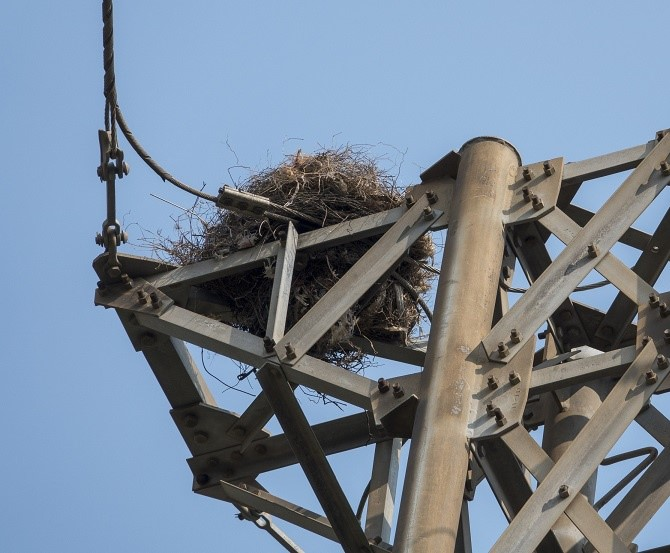niaowo: (174, 138, 425, 380)
